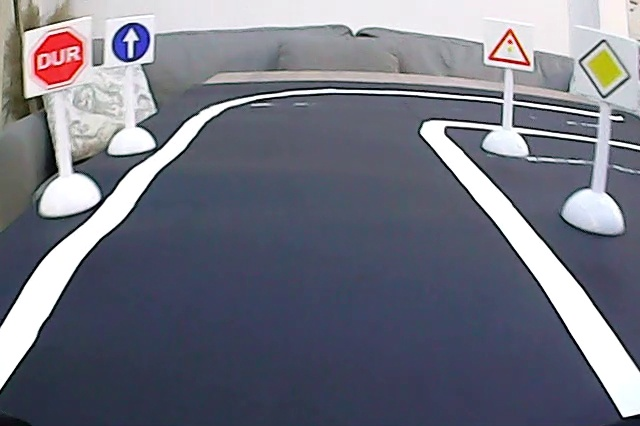red light: (485, 19, 533, 69)
stop sign: (28, 29, 91, 90)
